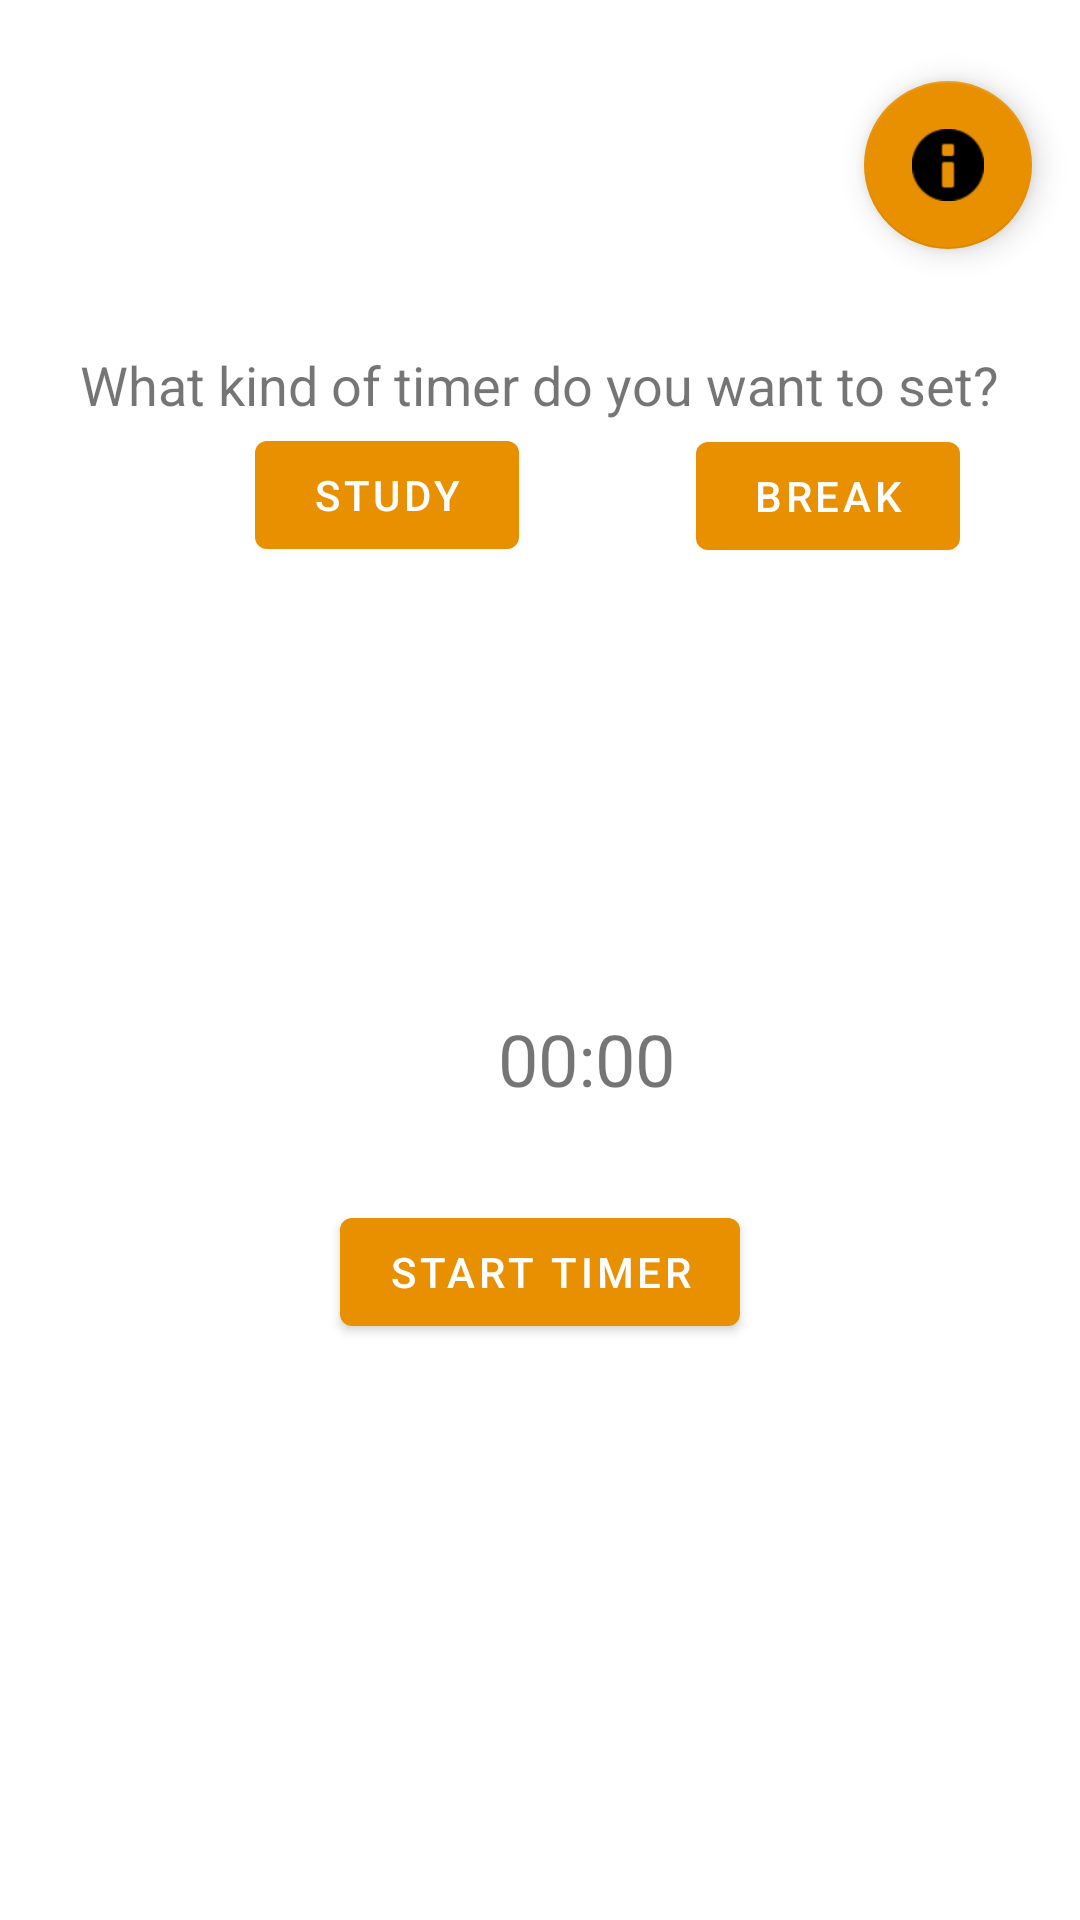

Point at icon controls on the screen. Image size 1080 x 1920, points as (x,y).
info: (948,165)
